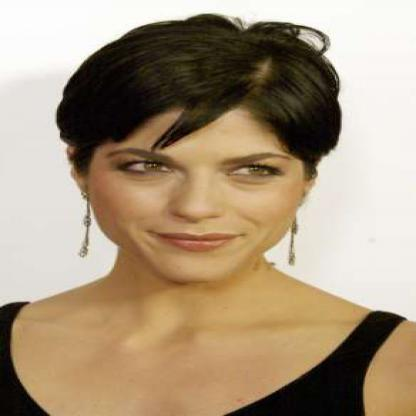face: (87, 46, 311, 286)
